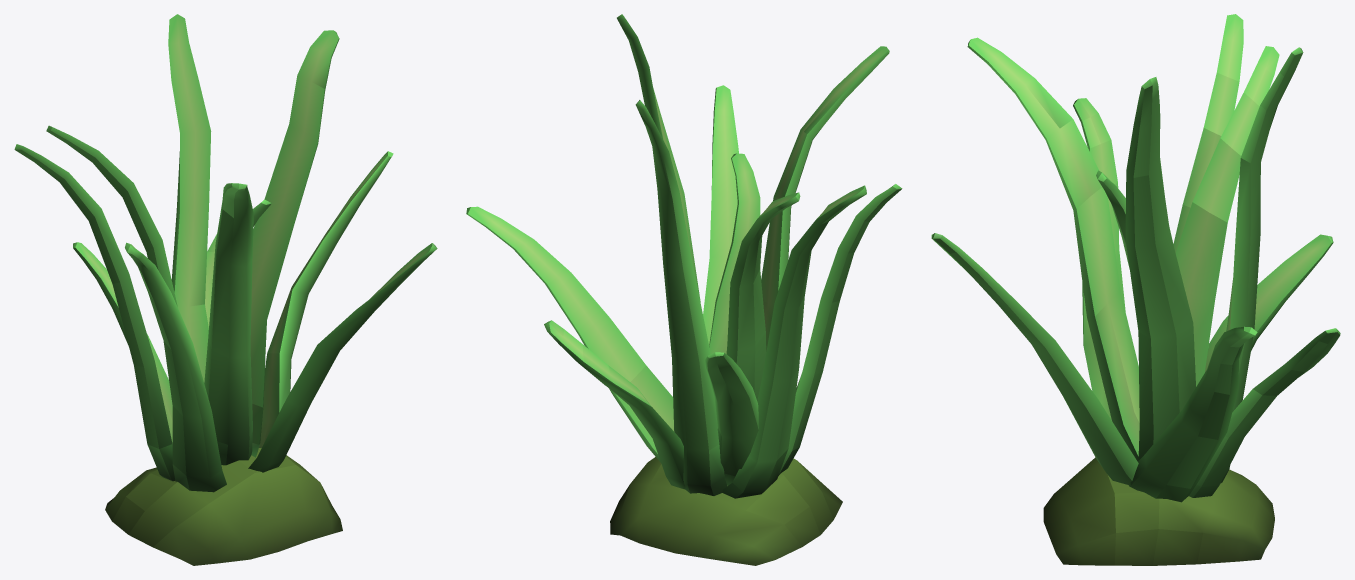
Rendered from AloeVera1.2.fbx.
3 views of the same model, side by side, from view 1: azimuth 30°, elevation 25°; view 2: azimuth 150°, elevation 25°; view 3: azimuth 270°, elevation 25° (orthographic). The views are drawn at different scales.
Parts seen in each view (by area): view 1: AloeVera; view 2: AloeVera; view 3: AloeVera.
Boxes of the visible parts, x1,y1,x2,y2 form: AloeVera: [14, 14, 437, 565]; AloeVera: [466, 14, 902, 565]; AloeVera: [931, 14, 1340, 565].
Bounding box in the file's own units: 411 × 472 × 349.
